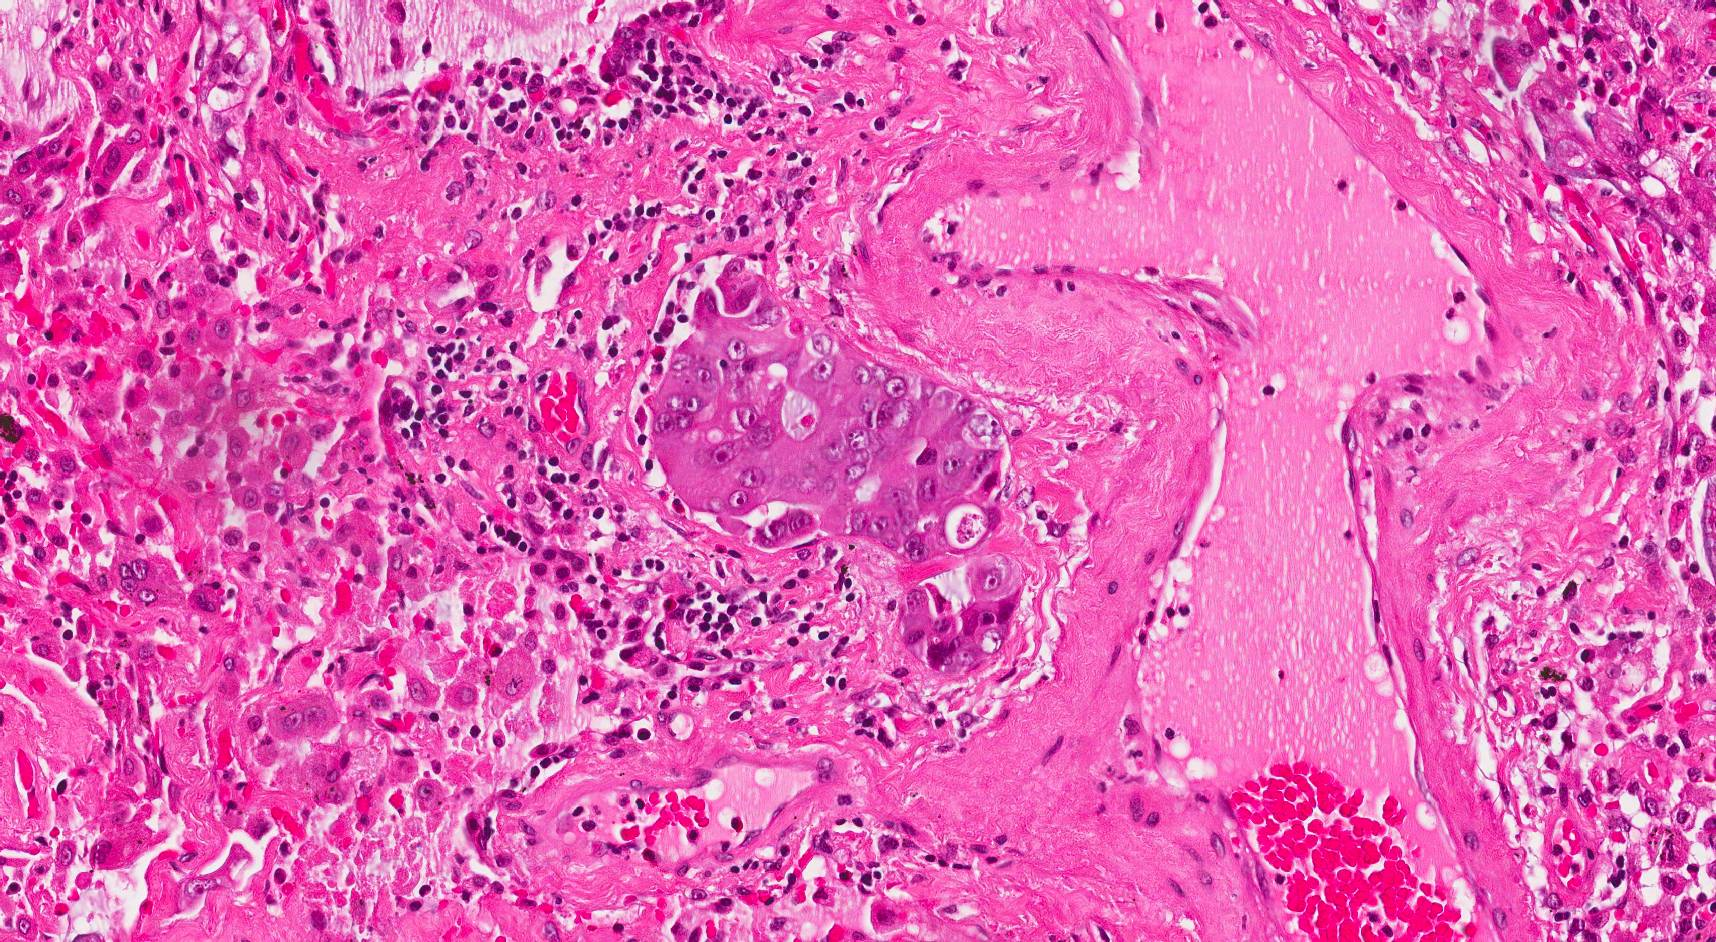stas: (646, 256, 1011, 560), (893, 556, 1023, 676)
